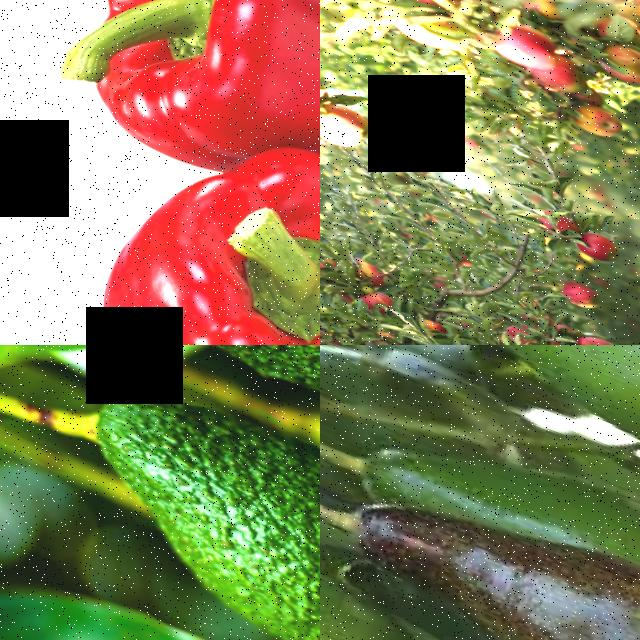apple: (482, 15, 571, 83), (566, 96, 634, 152), (320, 96, 373, 157), (566, 222, 626, 273), (588, 33, 640, 91), (552, 273, 610, 318), (553, 315, 639, 345), (517, 201, 573, 245), (553, 274, 606, 314), (507, 0, 572, 28), (342, 258, 391, 293), (559, 327, 639, 345), (374, 121, 415, 148), (320, 63, 337, 110), (452, 130, 482, 156)
avocado: (36, 361, 320, 640), (344, 395, 640, 635), (320, 472, 640, 640), (365, 345, 640, 525), (142, 345, 320, 488), (320, 512, 481, 640)
bell pepper: (27, 101, 320, 345), (27, 0, 320, 218)
